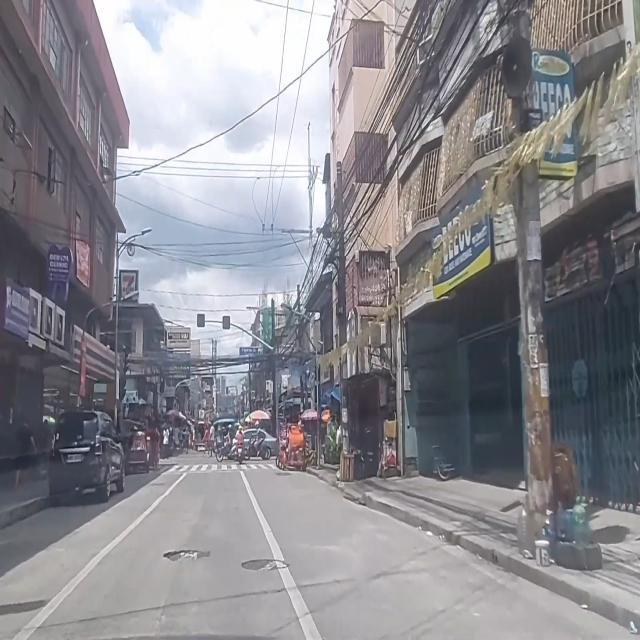car: (49, 408, 124, 502), (244, 428, 278, 458)
jeepney: (214, 420, 233, 442), (194, 422, 207, 452)
motorcycle: (244, 420, 268, 460), (214, 425, 237, 463), (234, 426, 244, 464)
tricycle: (276, 421, 307, 472), (122, 424, 150, 472)
